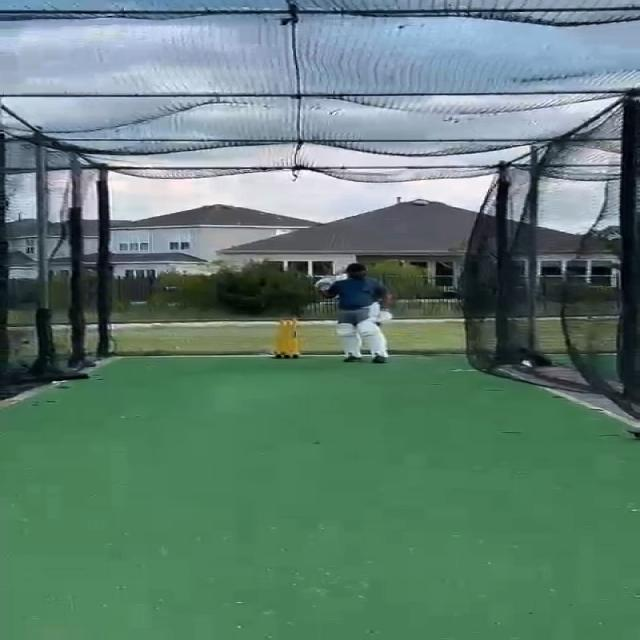batsman: (310, 261, 396, 365)
